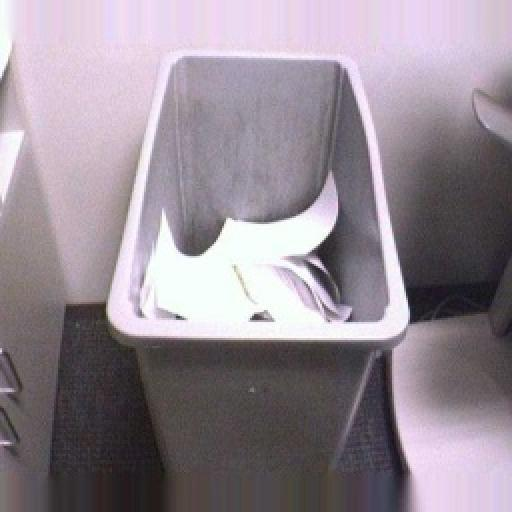trash-can: (102, 23, 418, 512)
